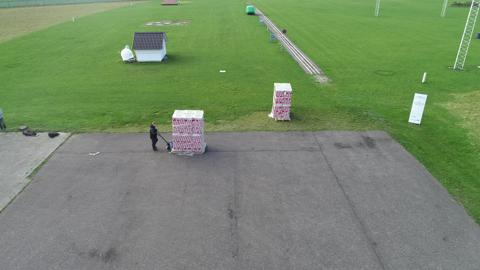RockwoolPallet: (173, 111, 205, 154)
